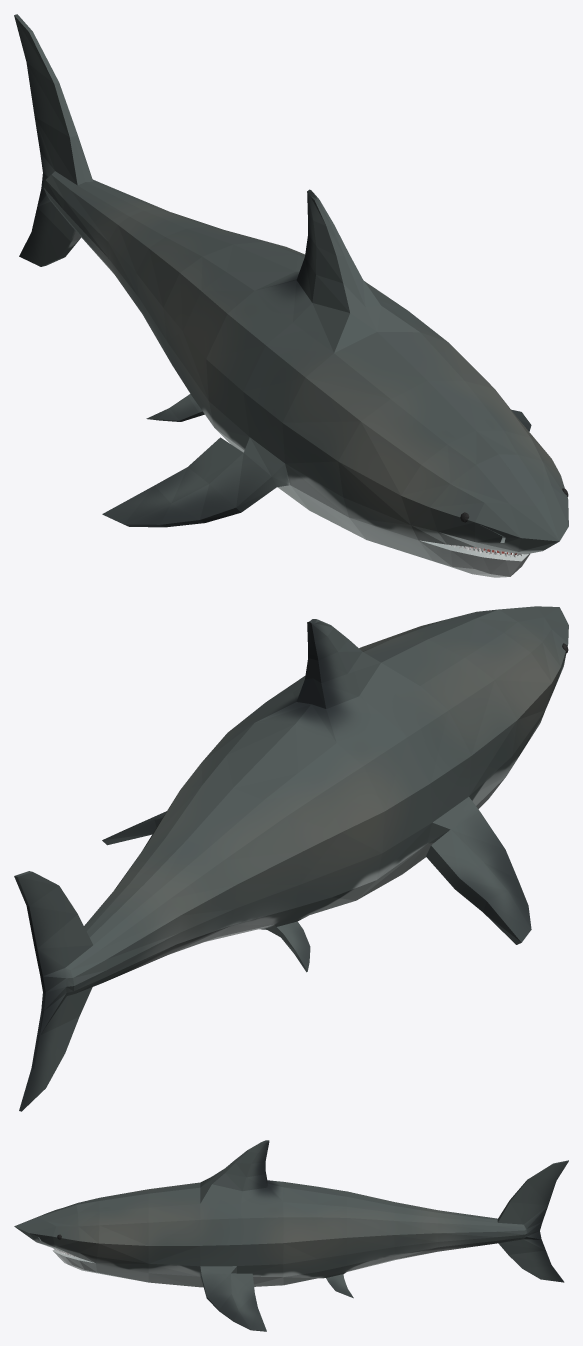
The model's file is Shark.glb.
3 renders of one model, top to bottom at view 1: azimuth 30°, elevation 25°; view 2: azimuth 150°, elevation 25°; view 3: azimuth 270°, elevation 25°, orthographic. The views are drawn at different scales.
Visible parts, largest first — view 1: Node.001; view 2: Node.001; view 3: Node.001.
Boxes of the visible parts, <box> form: Node.001: <box>14,14,568,577</box>; Node.001: <box>14,606,568,1111</box>; Node.001: <box>14,1140,568,1331</box>.
Size of the model in its own units: 1.77 by 1.12 by 3.98.
Materials: 4 (1 with a texture image).
